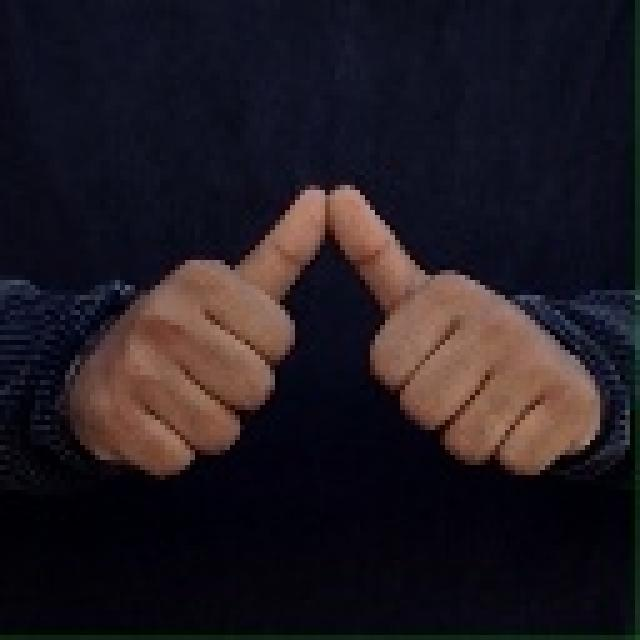Alphabet-A: (66, 178, 606, 478)
